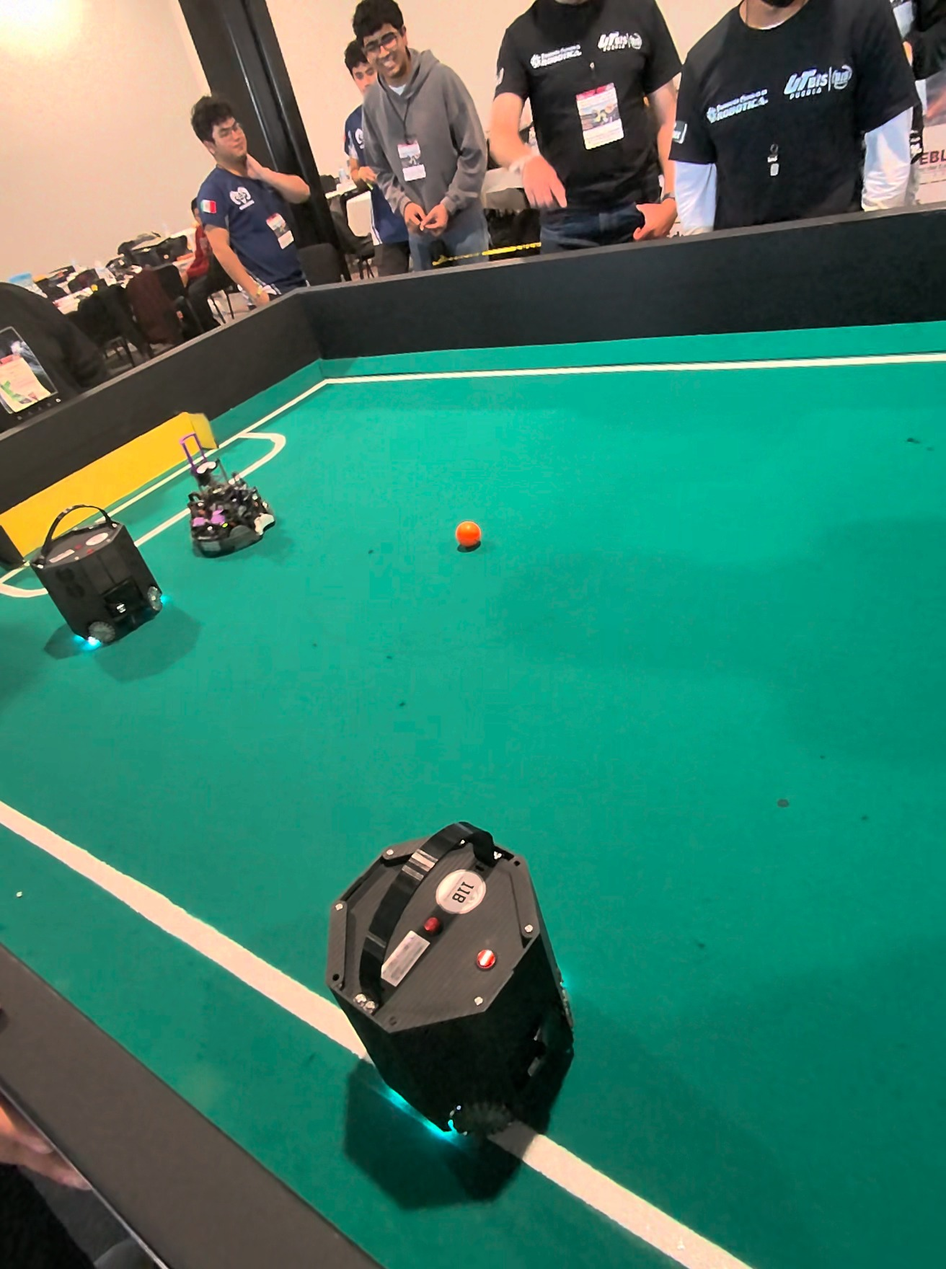Robot: (316, 805, 591, 1179), (25, 489, 176, 660), (182, 429, 280, 566)
pelota: (452, 518, 485, 556)
